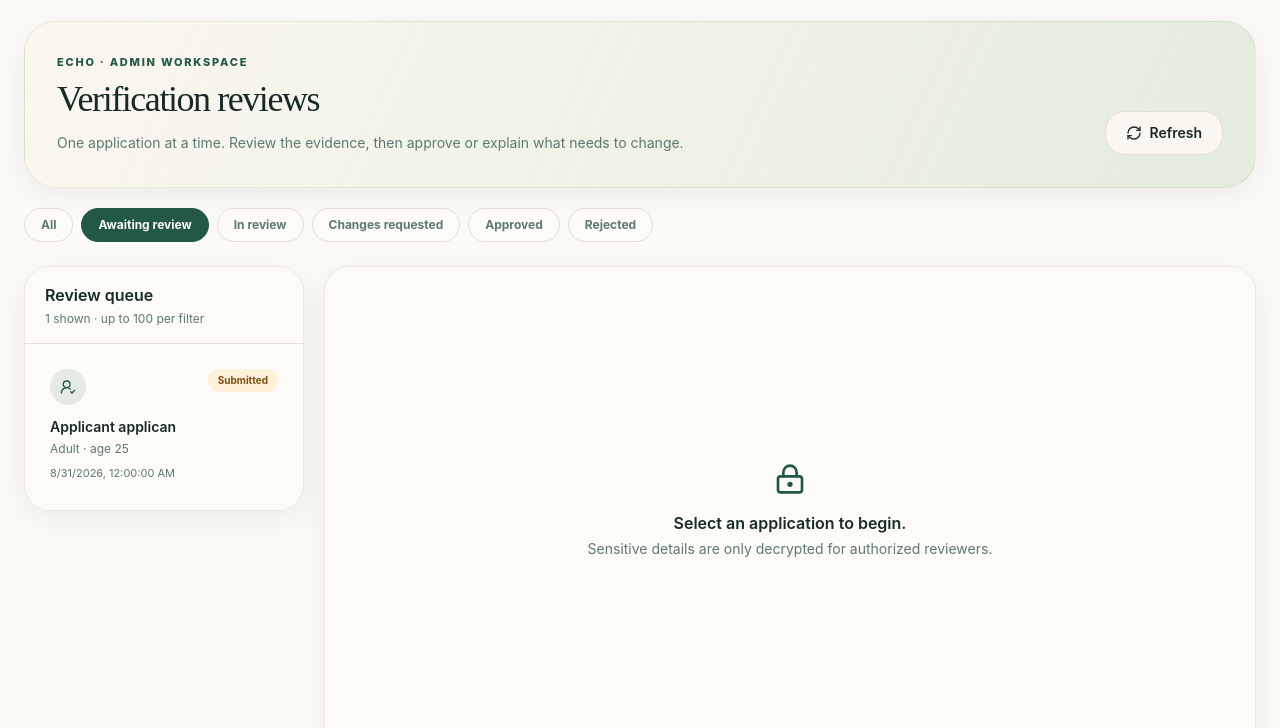
Test: Admin verification workspace › shows the scan error and a retry action if the automatic rescan does not complete
Click the button "Applicant applican".
click(164, 425)  # box top-left (33, 352), bottom-right (295, 498)
(page scrolled)
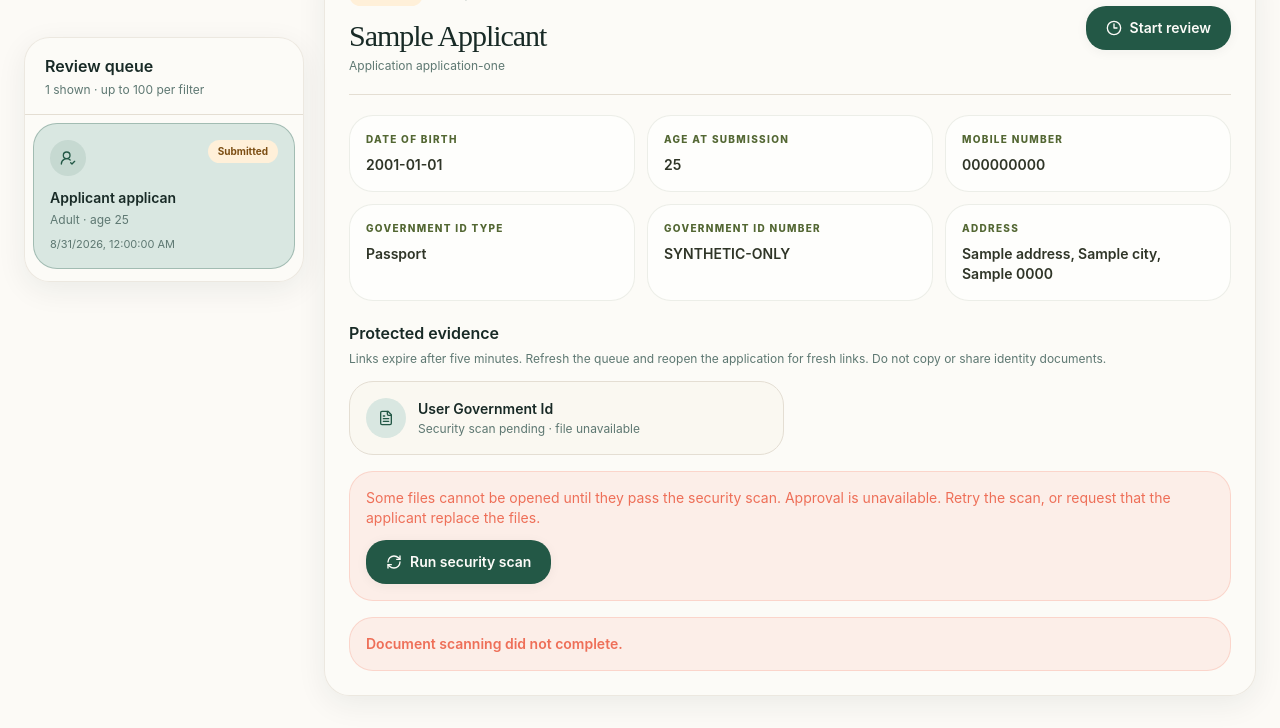
Expected: the message reads "Document scanning did not complete.", top-left (366, 634), bottom-right (623, 652)
Expected: the heading "Sample Applicant" is shown, top-left (349, 18), bottom-right (546, 54)
Click the button "Run security scan".
click(459, 562)  # box top-left (366, 540), bottom-right (551, 584)
(page scrolled)
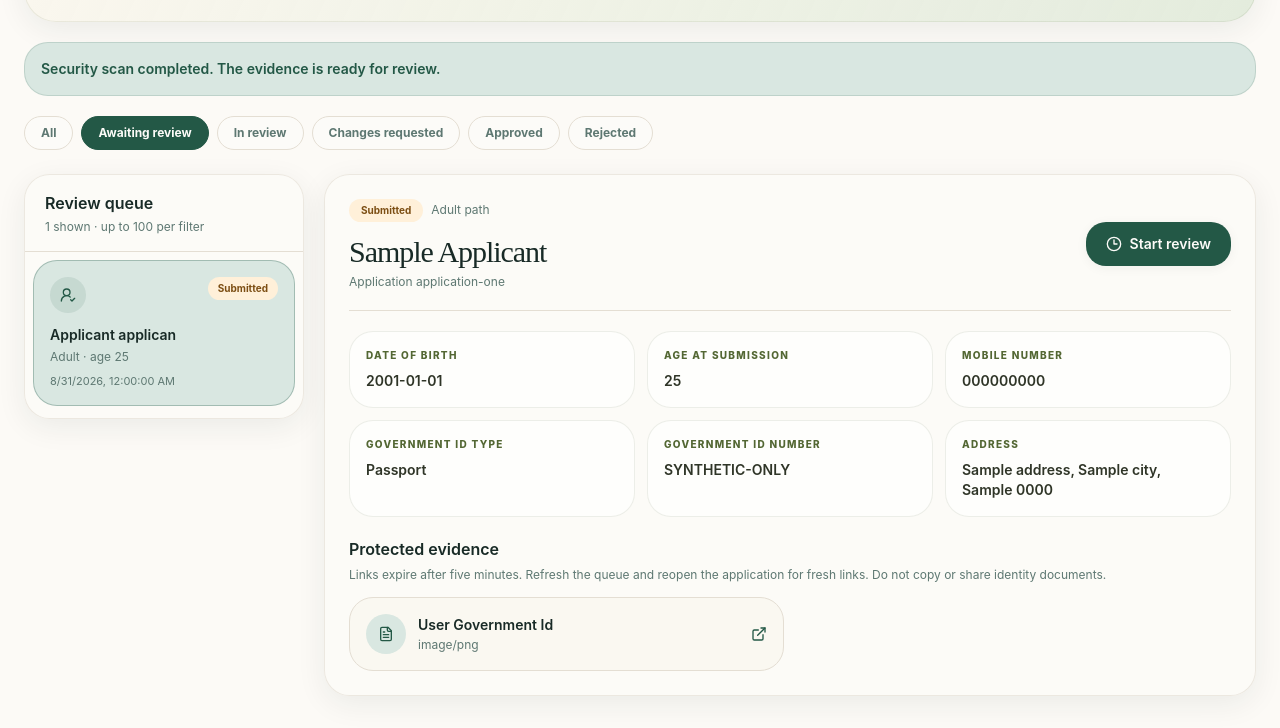
Expected: the link "user government id image/png" is shown, top-left (349, 596), bottom-right (784, 670)
